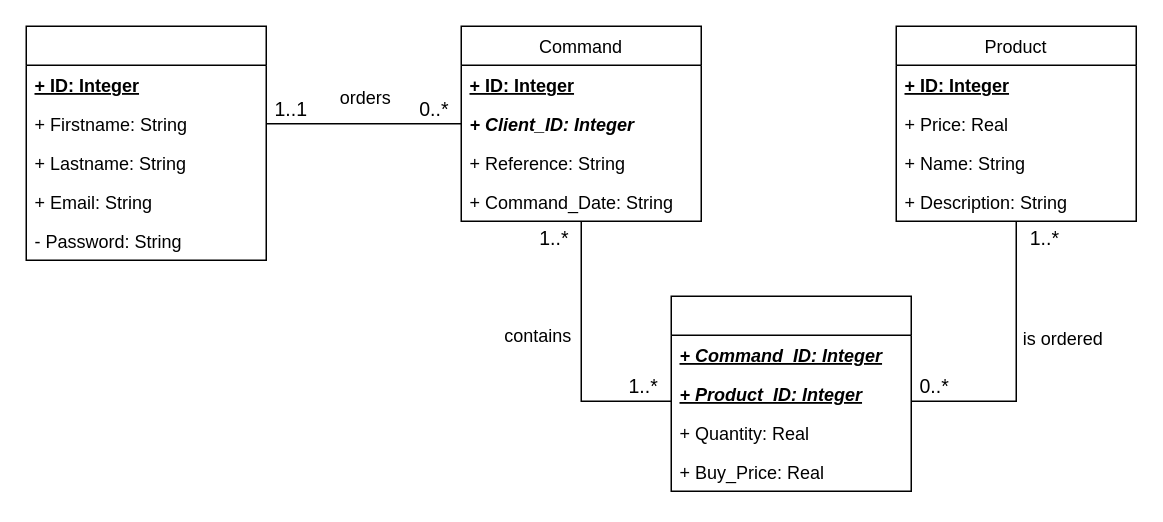
Some shapes in this 1163 by 522 pixel diagram are drawn without their labels. The shapes that lost their labels are listed below. From the top down, each one's box as (x1, y1, x2, y2) in pixels, then its label:
(25, 25, 266, 260): Client
(670, 295, 911, 491): Command_Product
